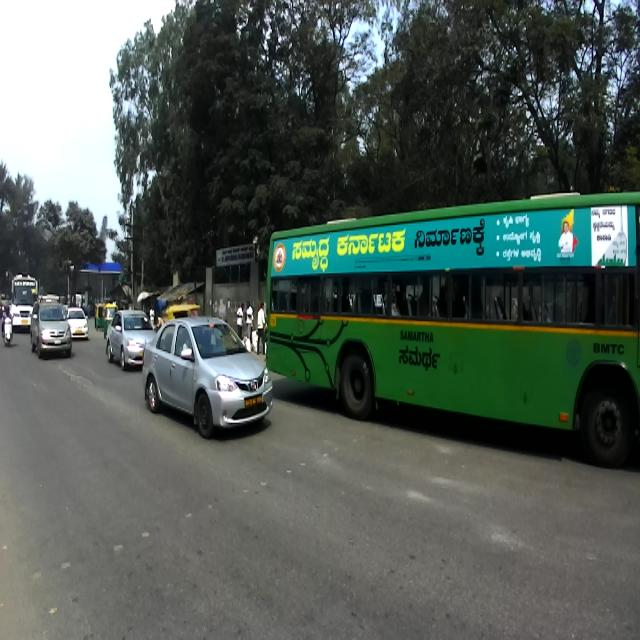bus ahead at: (271, 194, 640, 436)
car ahead at: (140, 315, 276, 440), (26, 294, 74, 363)
